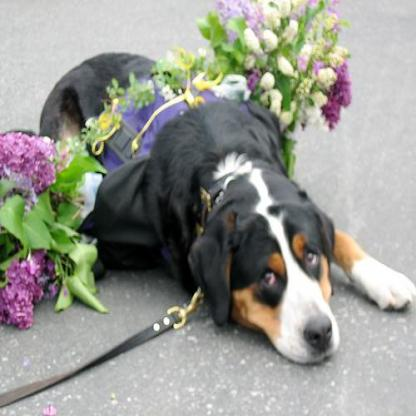Greater_Swiss_Mountain_dog: (37, 42, 414, 368)
